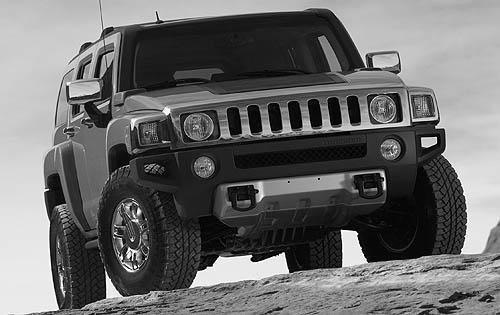car: (45, 10, 468, 309)
